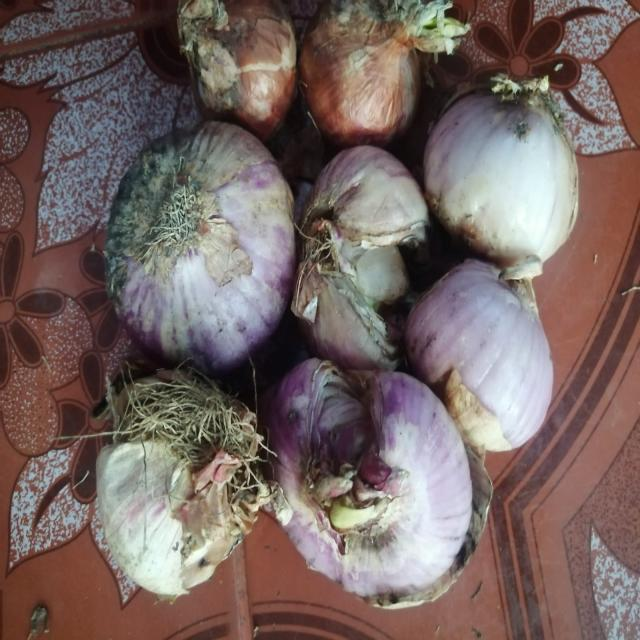rotten: (124, 142, 194, 238), (314, 372, 376, 458), (346, 238, 404, 318)
sprouting: (326, 498, 386, 534), (422, 12, 464, 54)
